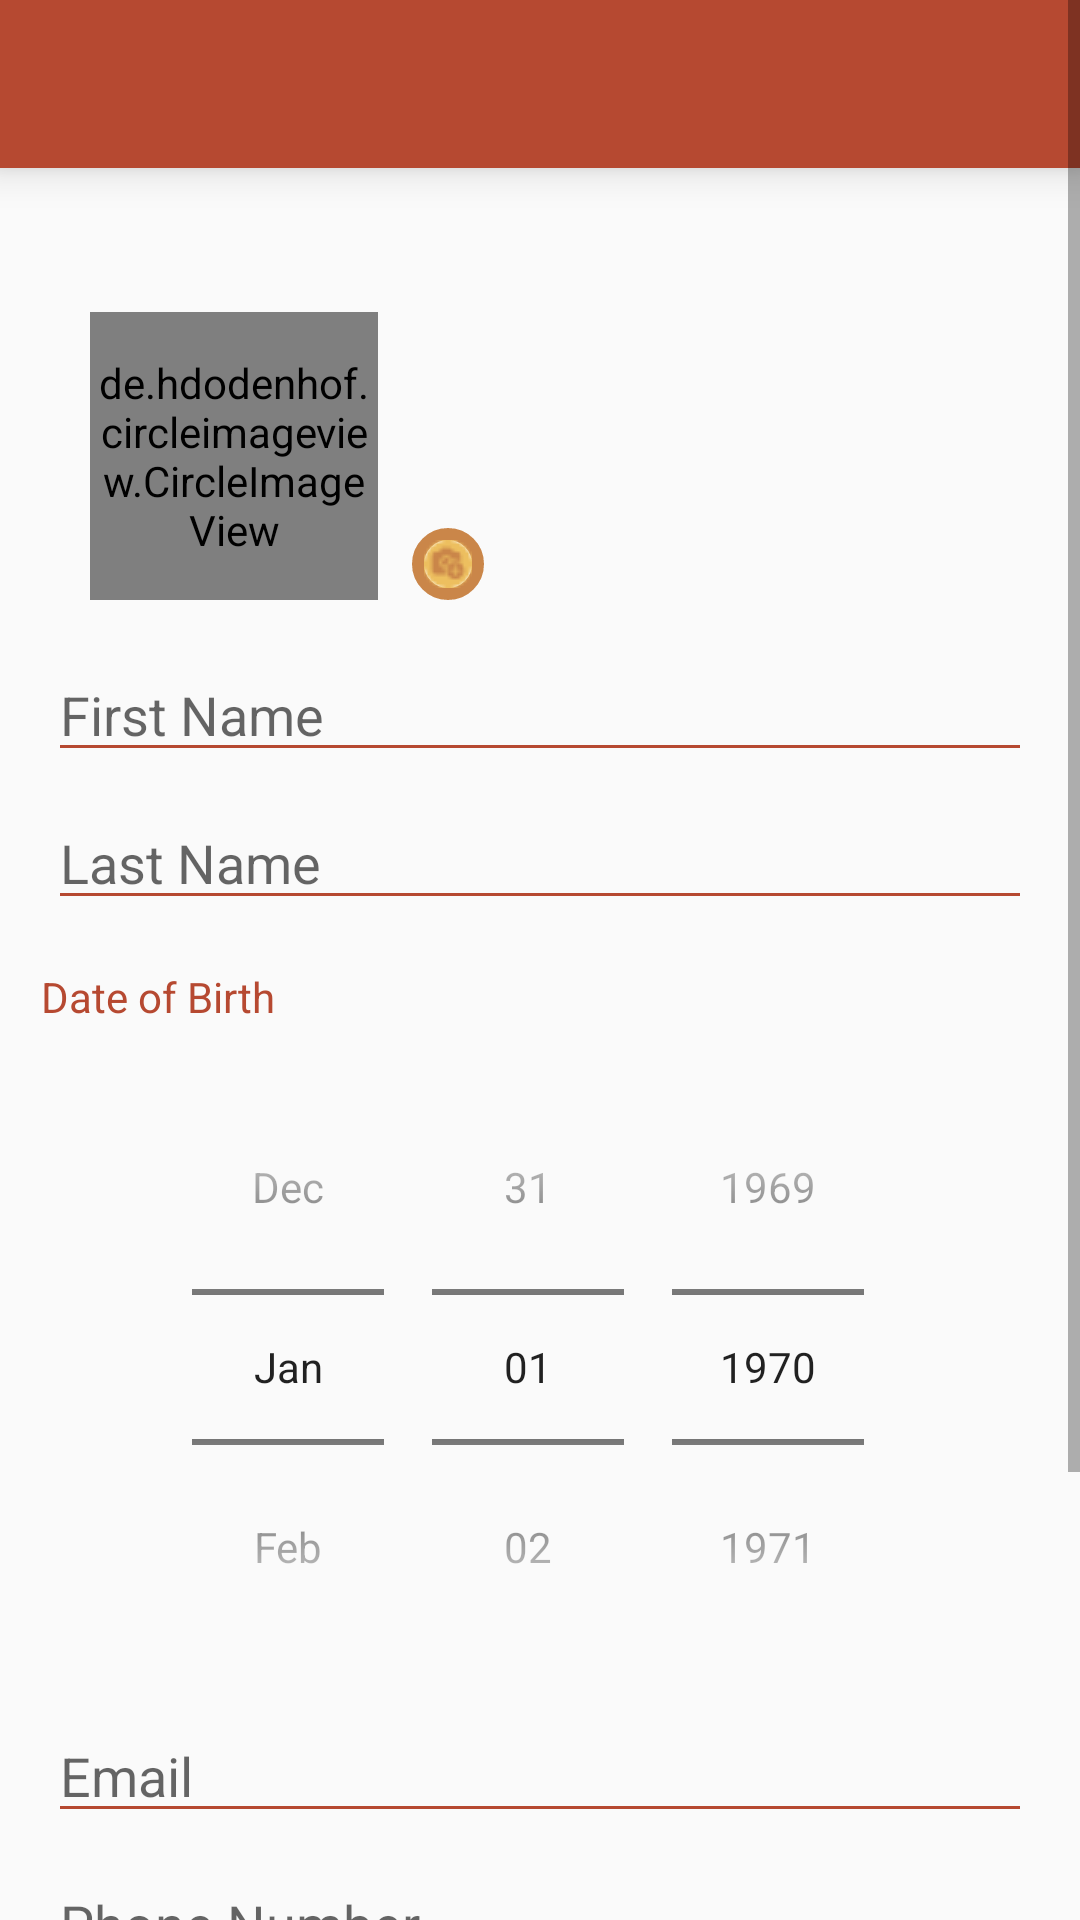

Screen size 1080 x 1920. Icon name, then its box in pixels as (x1, y1, x2, y2):
camera: (412, 528, 484, 600)
